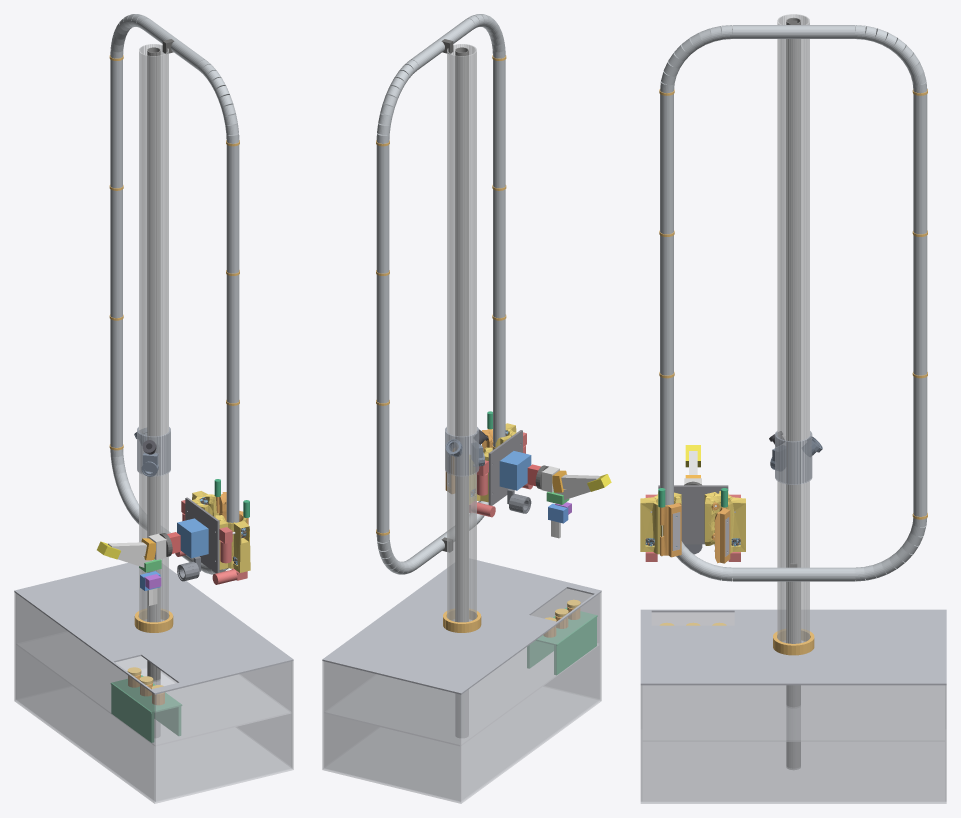
Rendered from transplant-assembly.glb.
3 renders of one model, left to right at view 1: azimuth 30°, elevation 25°; view 2: azimuth 150°, elevation 25°; view 3: azimuth 270°, elevation 25°, orthographic. The views are drawn at different scales.
Bounding box in the file's own units: 0.4877 × 1.9 × 0.701.
